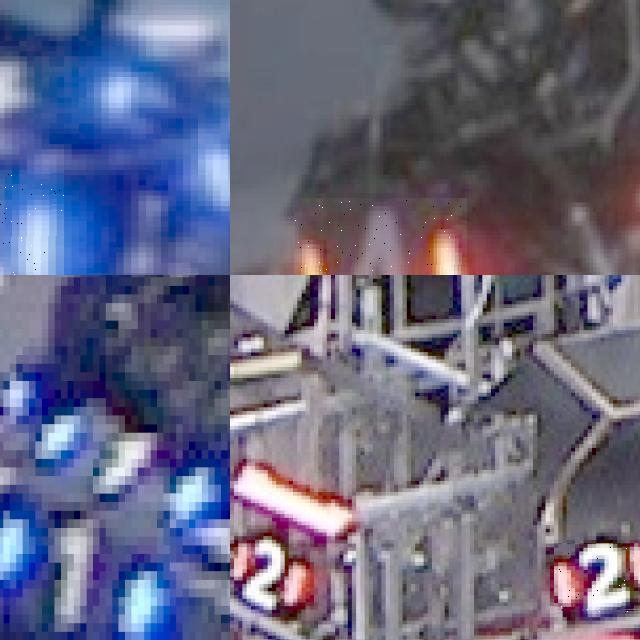B1: (0, 480, 160, 636), (29, 372, 202, 511)
B4: (0, 169, 64, 275)
R2: (554, 543, 640, 613), (230, 536, 305, 609)
R4: (294, 198, 468, 275)
